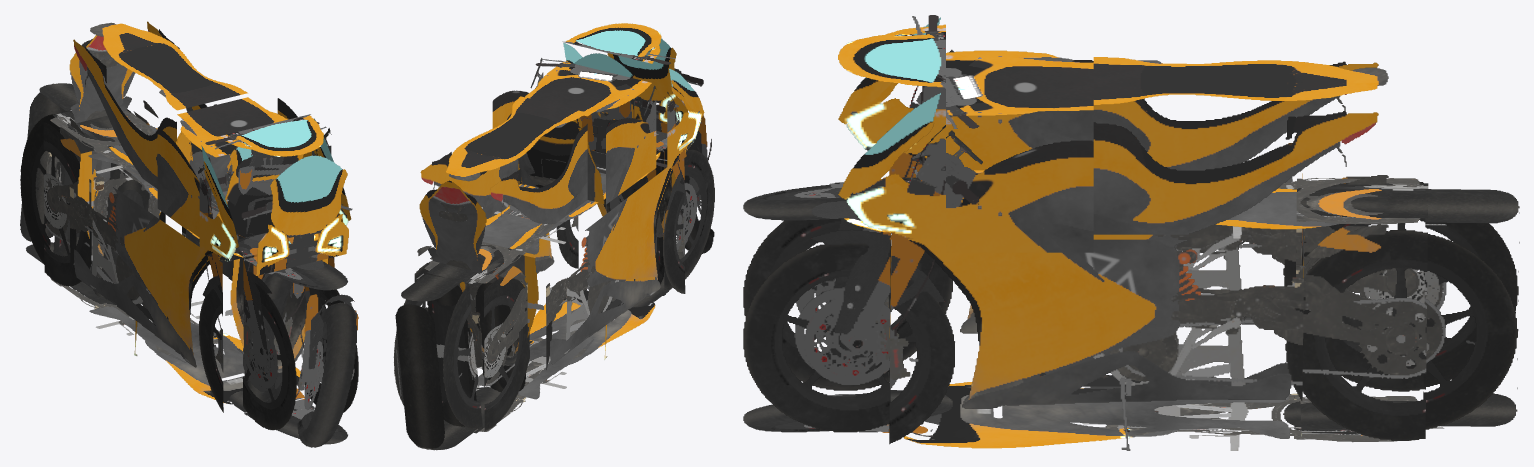
The model's file is motorcycle-1024.glb.
3 renders of one model, left to right at view 1: azimuth 30°, elevation 25°; view 2: azimuth 150°, elevation 25°; view 3: azimuth 270°, elevation 25°, orthographic. The views are drawn at different scales.
Visible parts, largest first — view 1: box_impostor; view 2: box_impostor; view 3: box_impostor.
Part boxes in pixels (<box>): box_impostor: <box>20,21,358,447</box>; box_impostor: <box>393,23,714,450</box>; box_impostor: <box>743,15,1519,450</box>.
Bounding box in the file's own units: 0.6773 × 1.31 × 2.51.
1 material, 1 textured.
